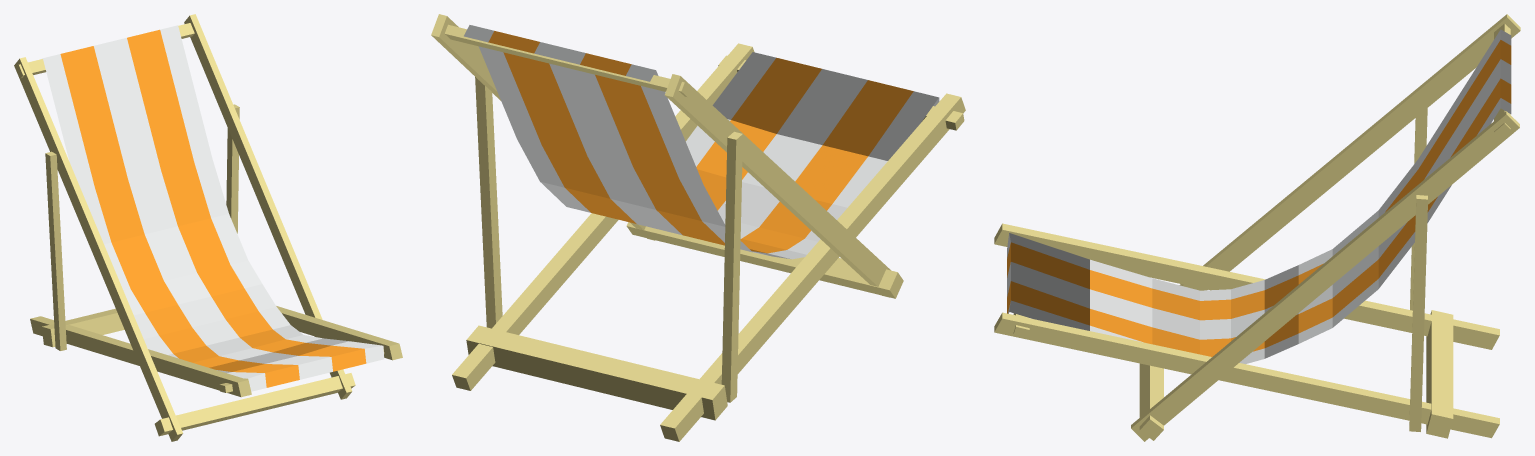
File: lezhak_whith_color.FBX
The picture shows the model from 3 angles, left to right: view 1: azimuth 30°, elevation 25°; view 2: azimuth 150°, elevation 25°; view 3: azimuth 270°, elevation 25°; orthographic projection. The views are drawn at different scales.
Visible parts, largest first — view 1: Cube002; view 2: Cube002; view 3: Cube002.
Part boxes in pixels (bbox=[...]): Cube002: bbox=[14, 14, 402, 441]; Cube002: bbox=[431, 14, 965, 441]; Cube002: bbox=[994, 14, 1520, 441].
Size of the model in its own units: 190 by 260 by 379.
